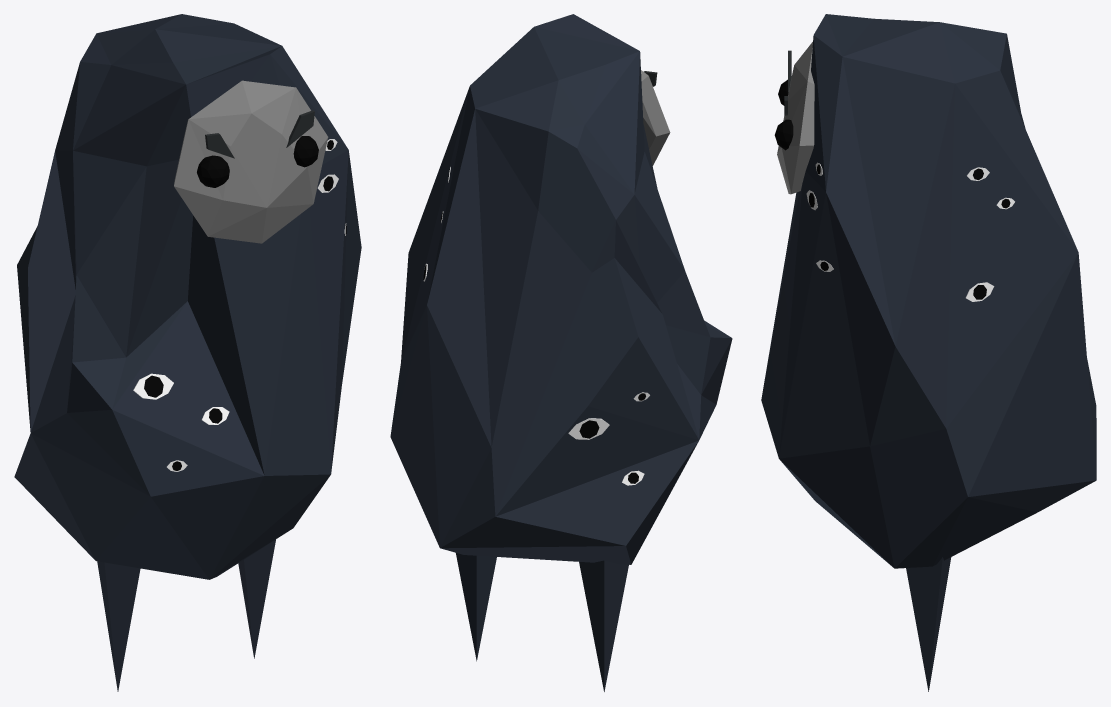
File: GoonStagger_Final_NoAnim.fbx
The picture shows the model from 3 angles, left to right: view 1: azimuth 30°, elevation 25°; view 2: azimuth 150°, elevation 25°; view 3: azimuth 270°, elevation 25°; orthographic projection. The views are drawn at different scales.
Visible parts, largest first — view 1: Bod; view 2: Bod; view 3: Bod.
Part boxes in pixels (x1,y1,x2,y2): Bod: [14, 14, 361, 691]; Bod: [390, 14, 732, 691]; Bod: [761, 14, 1096, 691].
Size of the model in its own units: 115 by 225 by 107.
